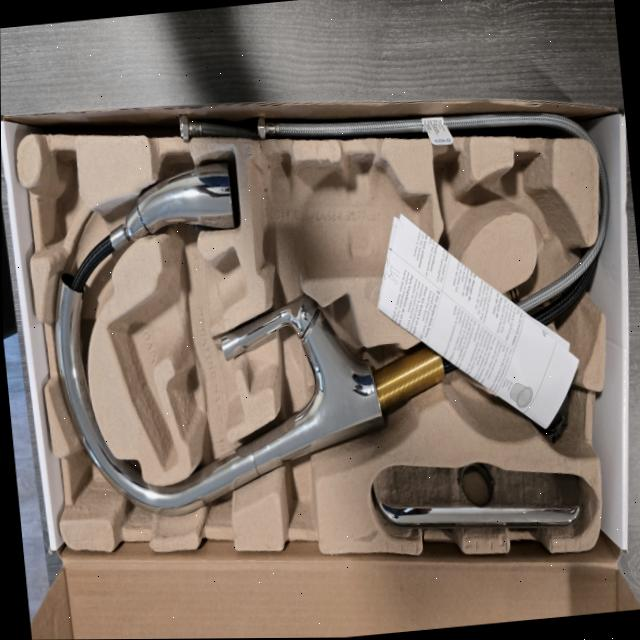1o: (52, 157, 603, 512)
2m: (106, 245, 245, 465)
3m: (246, 156, 435, 274)
4: (372, 461, 579, 526)
5o: (522, 377, 569, 444)
6m: (506, 150, 572, 243)
7m: (432, 147, 504, 284)
8: (377, 209, 579, 428)
